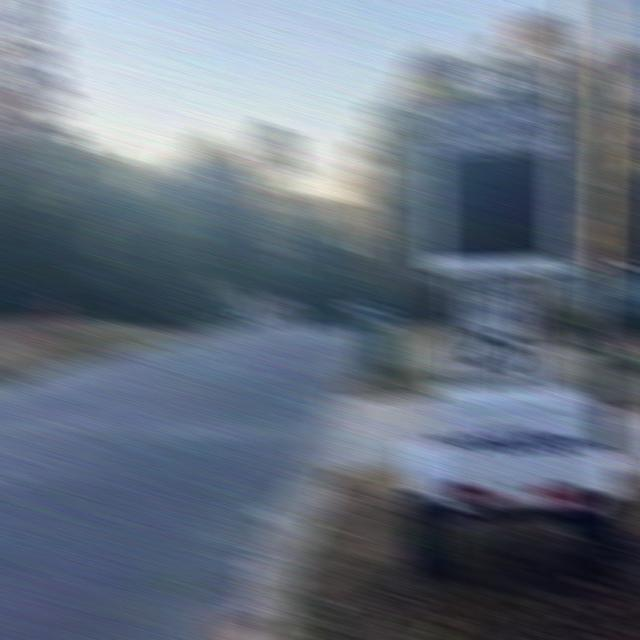speedLimit25: (460, 276, 529, 381)
